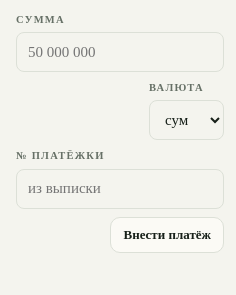
Test case: формы договоров › показывает ошибку платежа и сохраняет сумму
Type "50000000" into the field labelled "Сумма".
click(120, 52); type("50000000")  # box [16, 32, 224, 72]
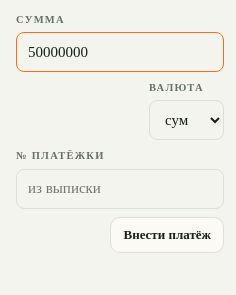
Type "PAY-7" into the field labelled "№ платёжки".
click(120, 189); type("PAY-7")  # box [16, 169, 224, 209]
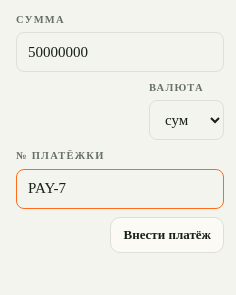
Click the button "Внести платёж".
click(167, 235)  # box [110, 217, 224, 253]
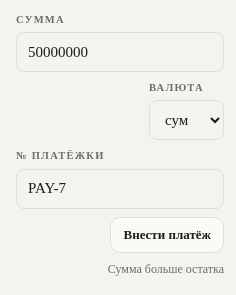
Expected: the text "Сумма больше остатка" is shown, [108, 261, 224, 278]
